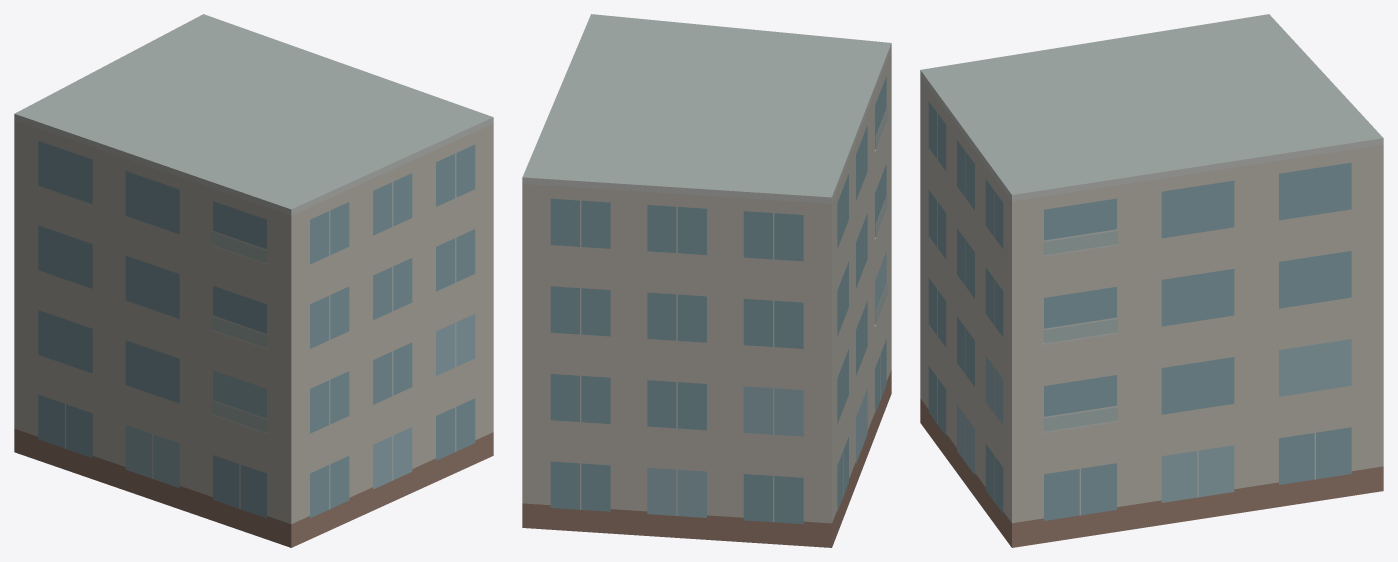
File: survey-upis-32942251.glb
The picture shows the model from 3 angles, left to right: view 1: azimuth 30°, elevation 25°; view 2: azimuth 150°, elevation 25°; view 3: azimuth 270°, elevation 25°; orthographic projection. The views are drawn at different scales.
Parts seen in each view (by area): view 1: survey-upis-32942251.tmp; view 2: survey-upis-32942251.tmp; view 3: survey-upis-32942251.tmp.
Part boxes in pixels (box(x1,y1,x2,y2)): survey-upis-32942251.tmp: box(14, 14, 493, 547); survey-upis-32942251.tmp: box(522, 14, 891, 547); survey-upis-32942251.tmp: box(920, 14, 1383, 547).
Size of the model in its own units: 14.76 by 13.4 by 15.96.
